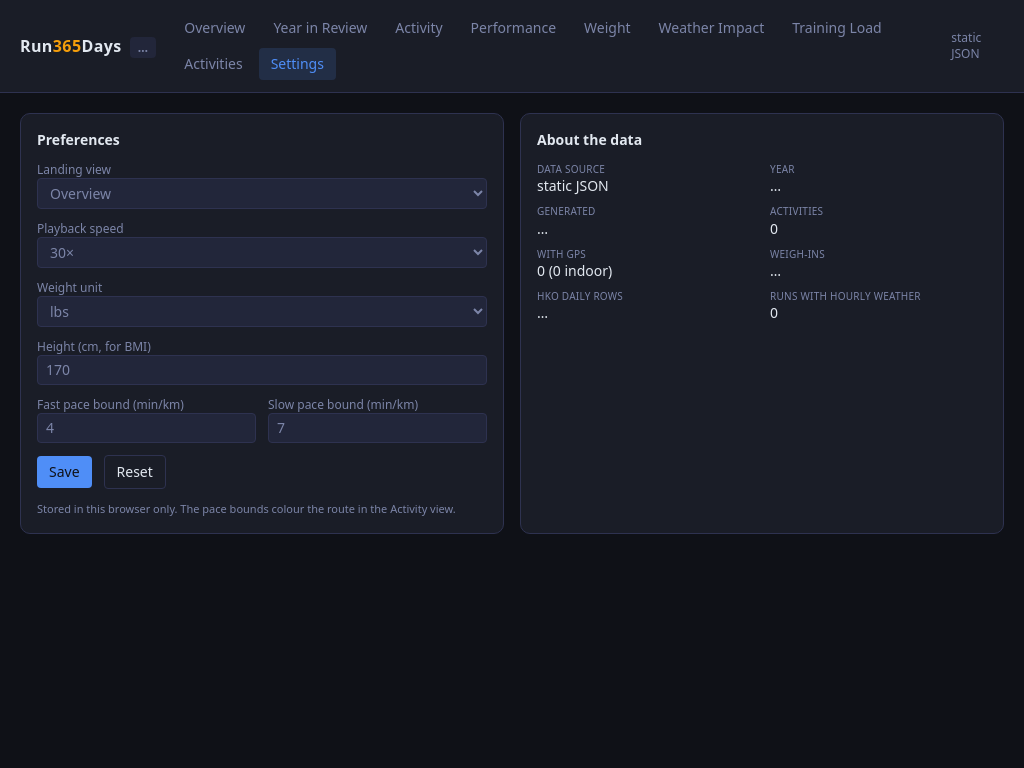
Test case: Analytics views › rejects a slow bound below the fast bound
Expected: the element with test id "data-info" is shown, [537, 162, 987, 323]
Replace the text in the number field labelled "Slow pace bound (min/km)" with "3": (378, 428) [268, 413, 487, 443]
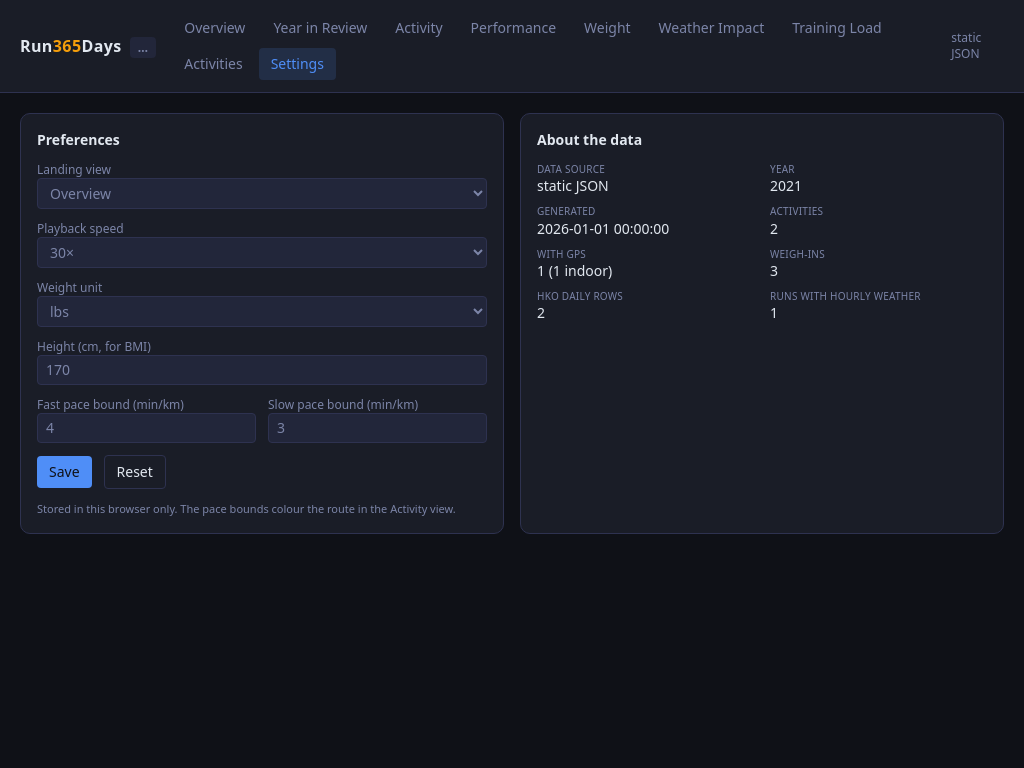
Click the button "Save": (64, 472) [37, 456, 92, 488]
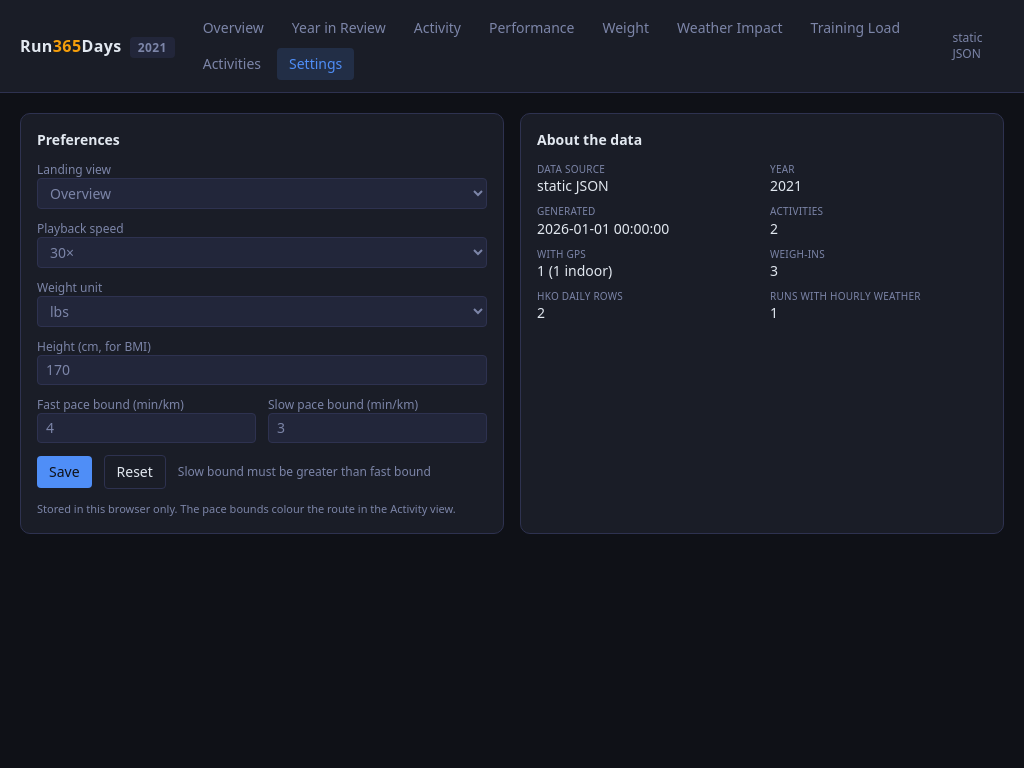
Now the message shows "Slow bound must be greater", box [178, 463, 431, 480]
